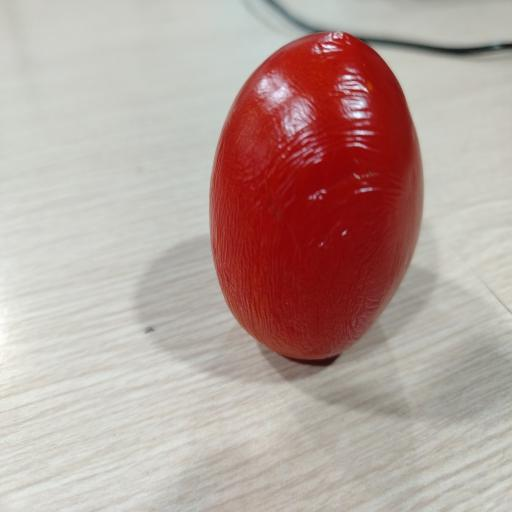spoiled: (210, 32, 423, 359)
